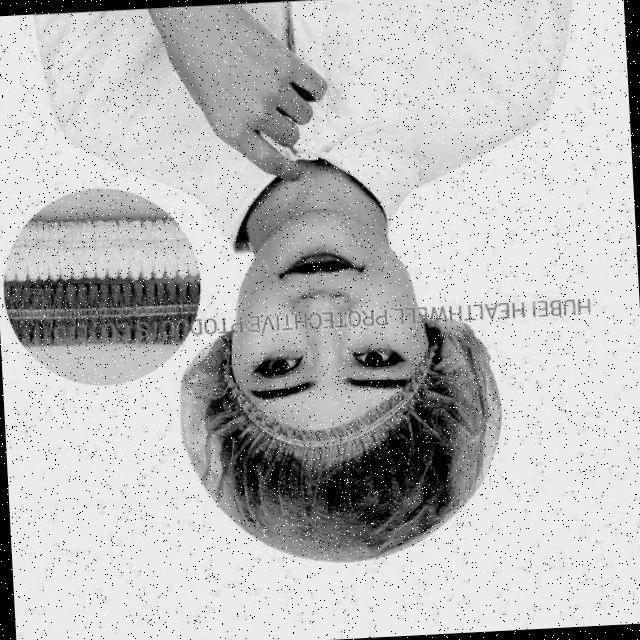no_apron: (195, 30, 352, 174)
no_hairnet: (286, 228, 368, 356)
